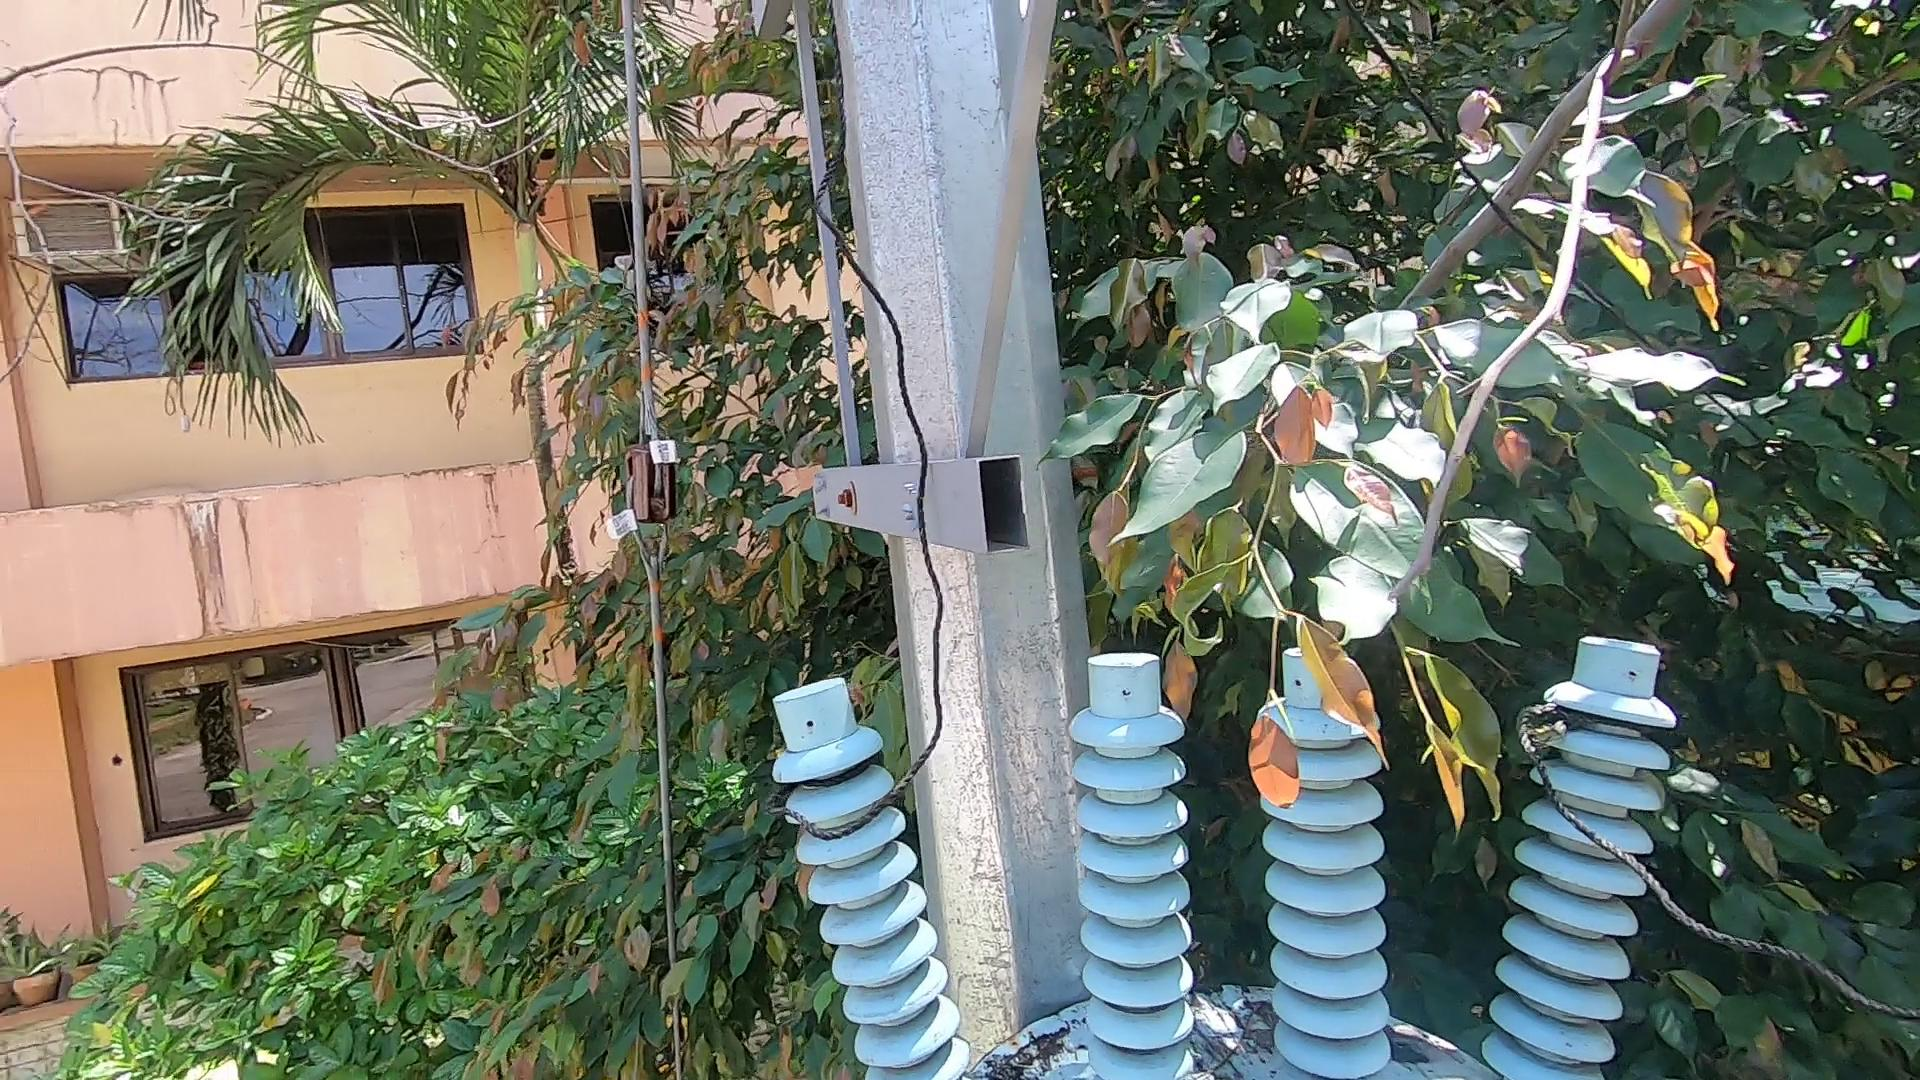tree branch: (1361, 1, 1684, 622)
